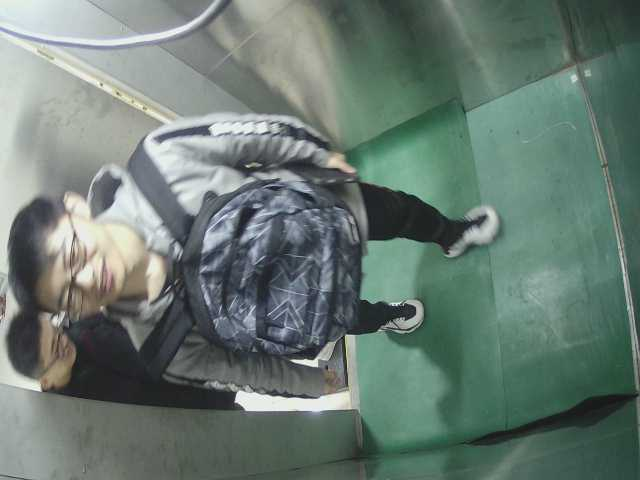bag: (186, 183, 367, 352)
person: (9, 202, 455, 340)
